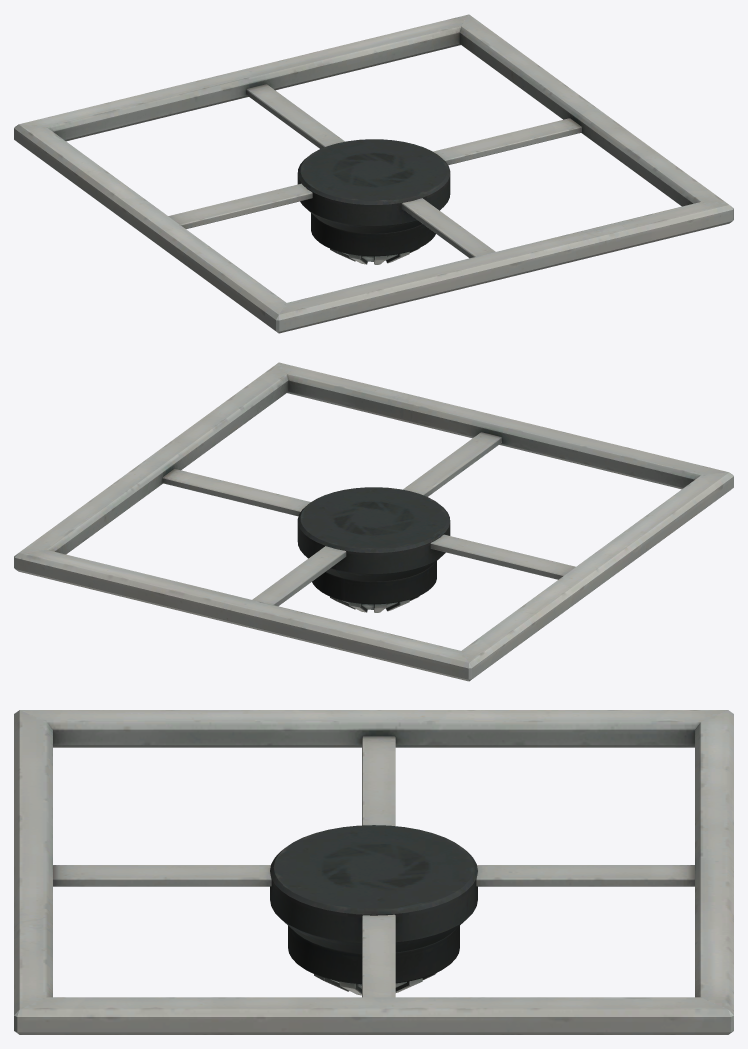
The model's file is light_rail_platform.obj.
The picture shows the model from 3 angles, top to bottom: view 1: azimuth 30°, elevation 25°; view 2: azimuth 150°, elevation 25°; view 3: azimuth 270°, elevation 25°; orthographic projection. The views are drawn at different scales.
Visible parts, largest first — view 1: platform; view 2: platform; view 3: platform.
Boxes of the visible parts, x1,y1,x2,y2 form: platform: [14, 14, 733, 333]; platform: [14, 362, 733, 681]; platform: [14, 710, 733, 1034].
Bounding box in the file's own units: 128 × 23.85 × 128.
Materials: 1 (1 with a texture image).
